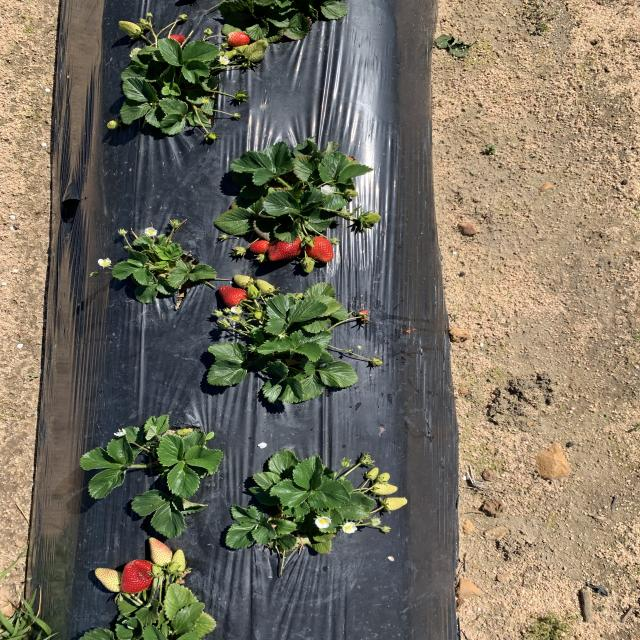unripe: (116, 559, 167, 594), (268, 234, 302, 263), (217, 284, 254, 310), (306, 236, 337, 265), (159, 28, 189, 51), (248, 241, 272, 257), (229, 32, 250, 44)
